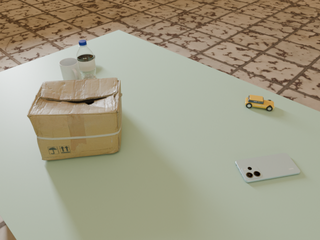bottle: (76, 40, 97, 80)
box: (27, 78, 122, 160)
cup: (59, 58, 82, 81)
phone: (236, 153, 300, 183)
toy_car: (245, 95, 274, 111)
